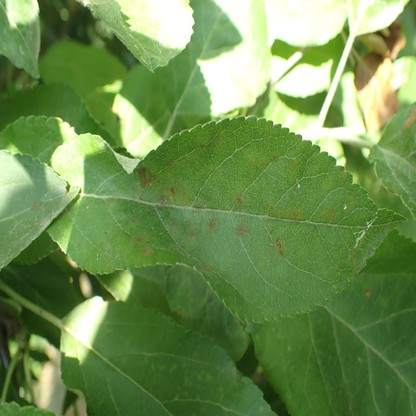powdery_mildew: (383, 150, 416, 185), (41, 204, 65, 228)
scab: (106, 132, 360, 275), (32, 200, 43, 209)
